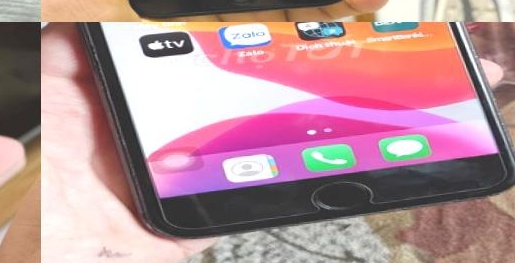scratch: (455, 34, 515, 161), (82, 114, 159, 200), (41, 22, 107, 89)
